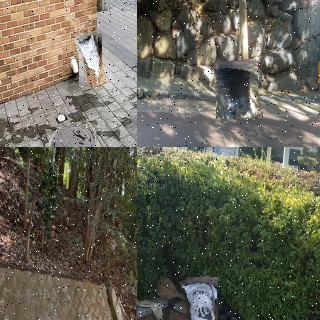Garbage: (214, 60, 260, 121), (182, 276, 222, 320), (77, 32, 104, 88), (215, 304, 228, 320), (227, 309, 242, 320)
